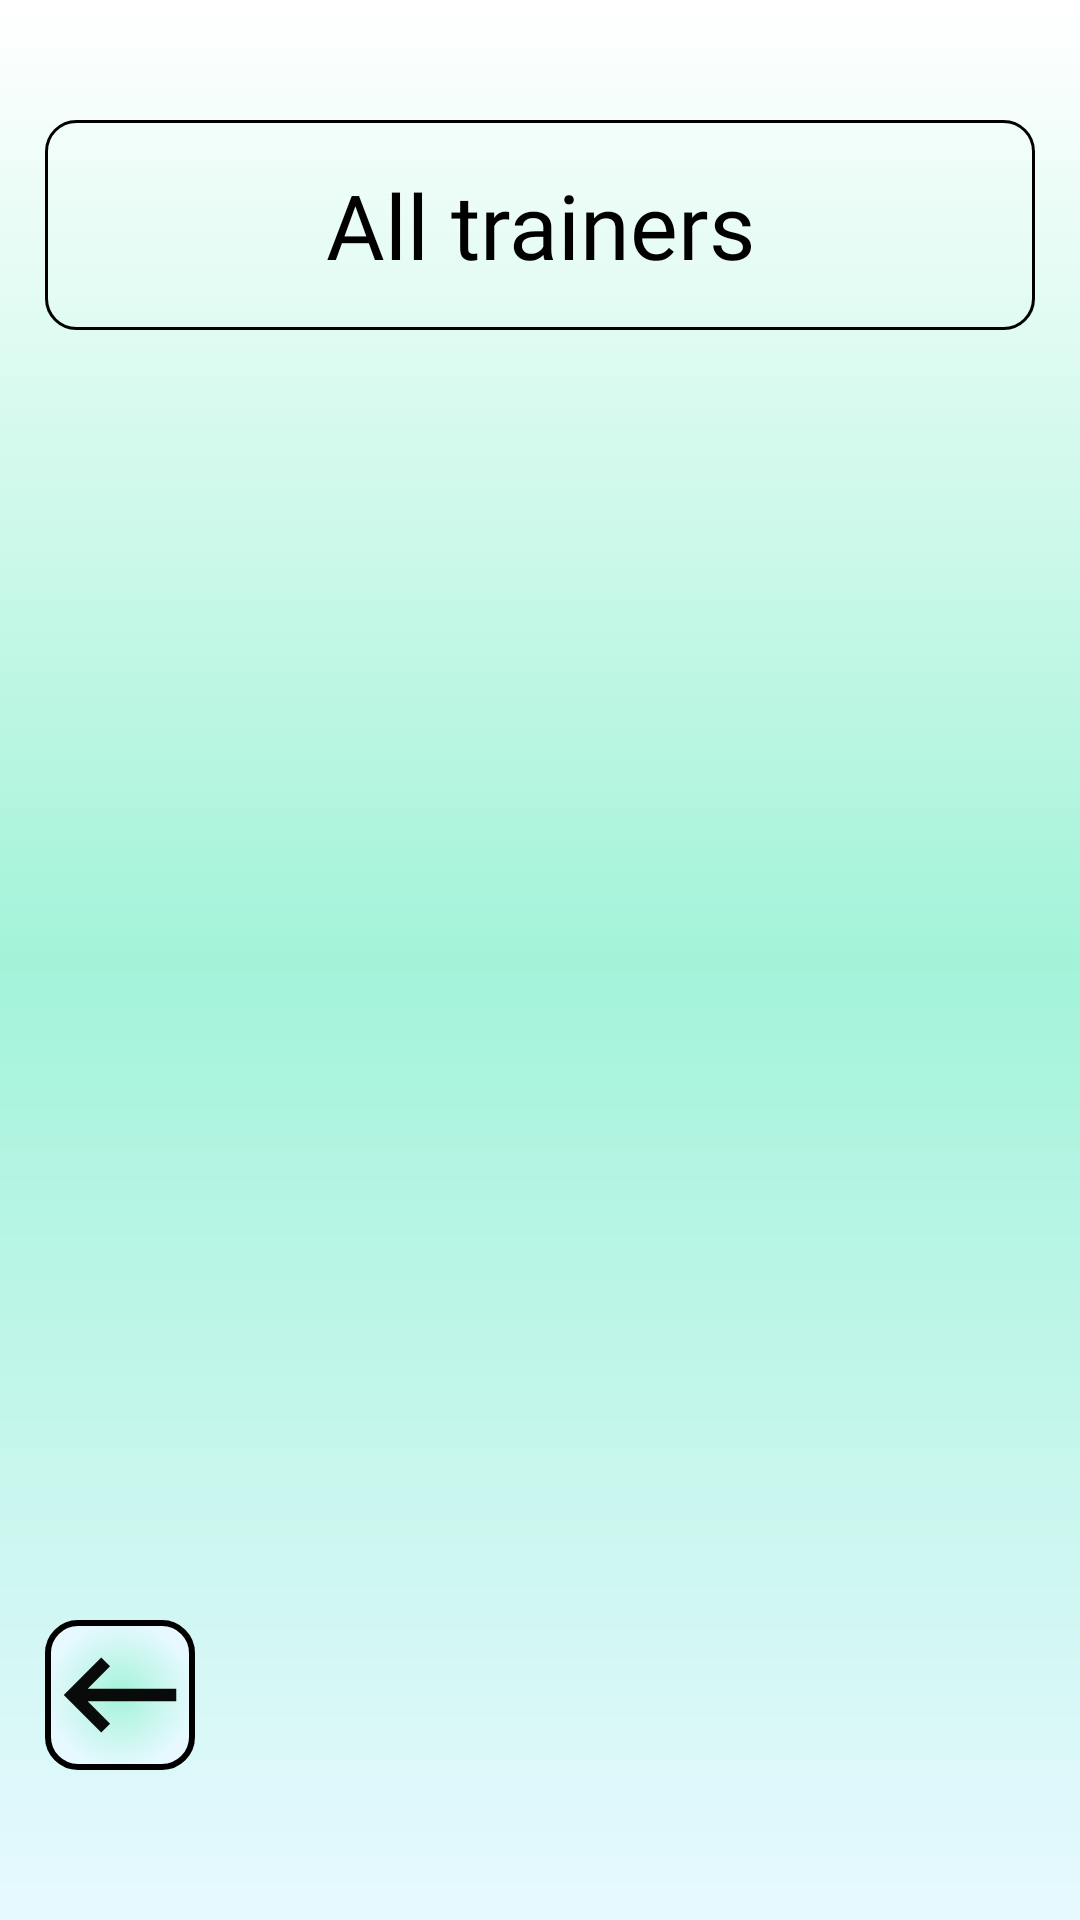

Locate icon controls on the screen. Image size 1080×1920, boxes as (x1, y1, x2, y2).
keyboard backspace: (45, 1620, 195, 1770)
